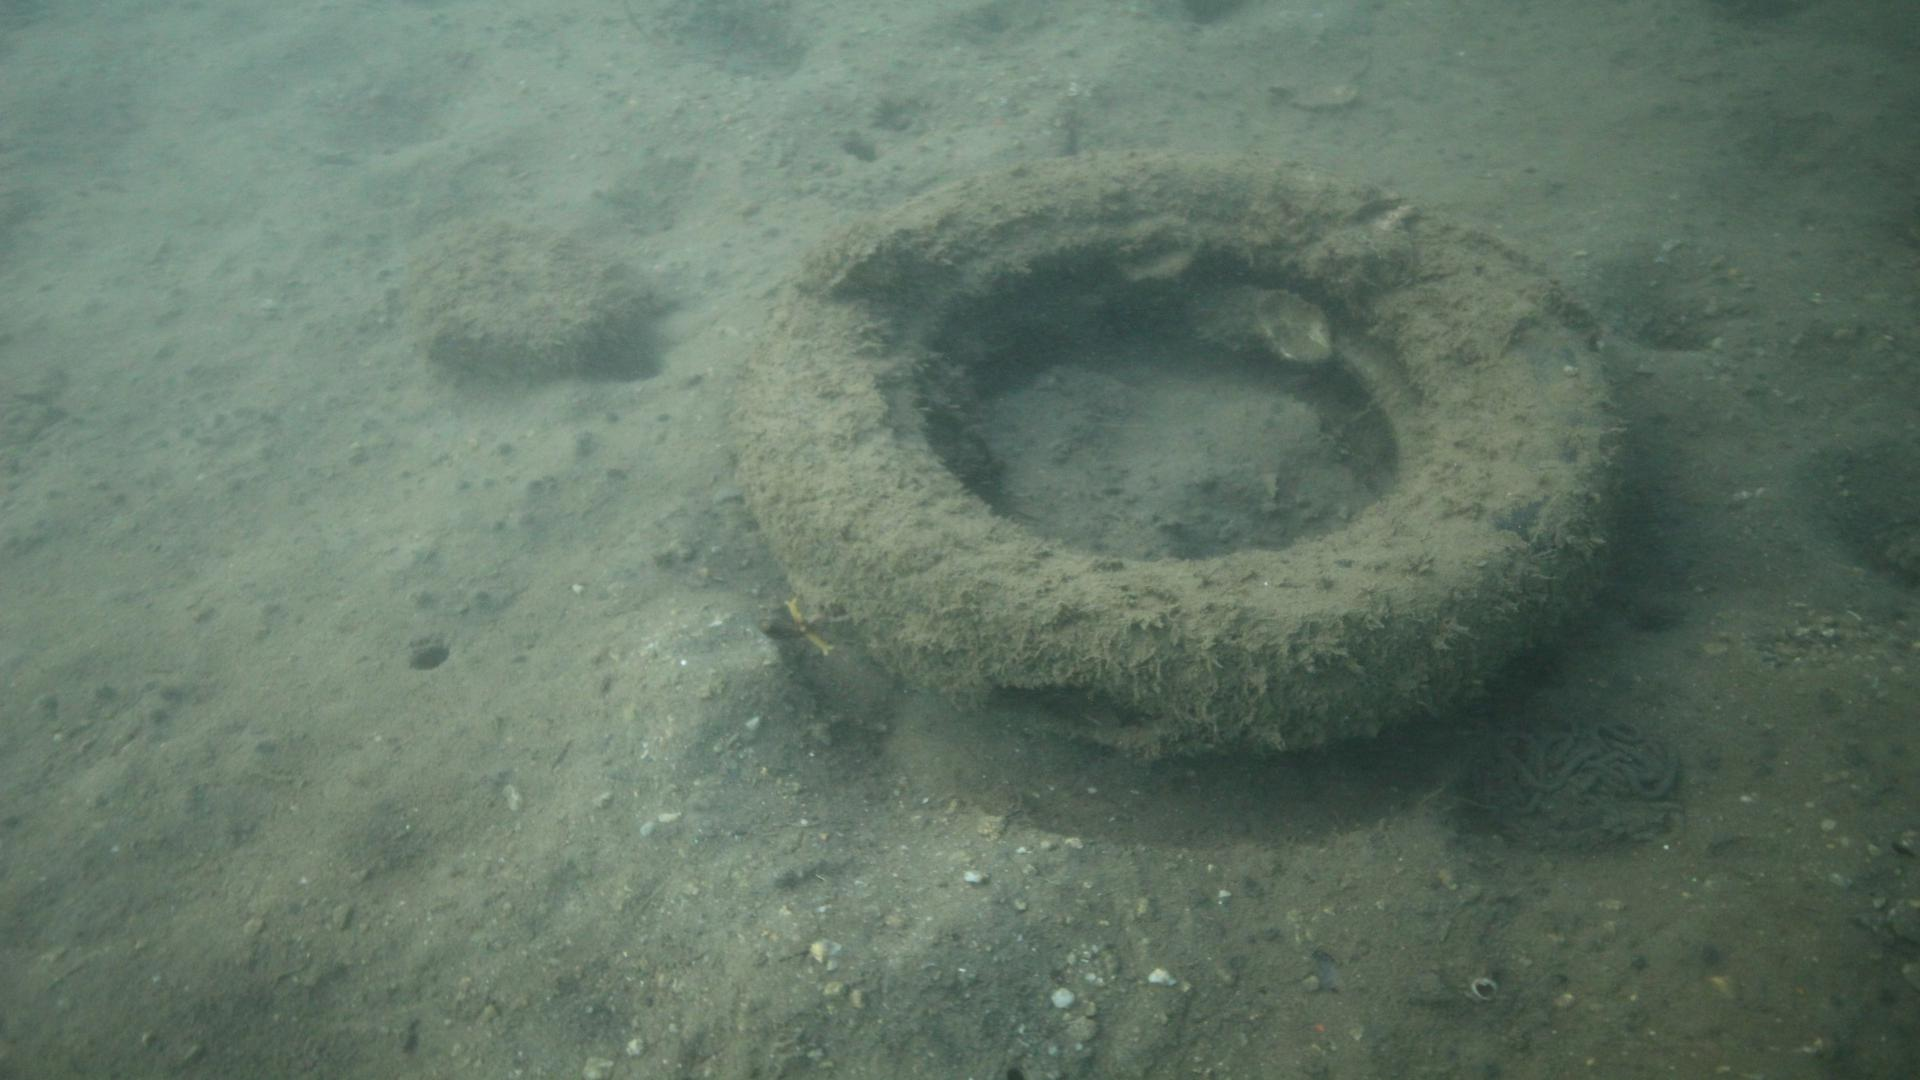tire: (728, 148, 1615, 761)
